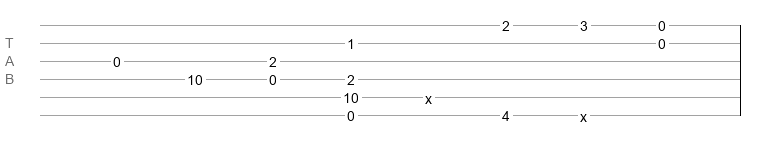0: (113, 54, 121, 64), (269, 72, 277, 82), (347, 108, 355, 118), (658, 36, 666, 46), (658, 18, 666, 28)
1: (347, 36, 355, 46)
10: (187, 72, 203, 82), (343, 90, 359, 100)
2: (269, 54, 277, 64), (347, 72, 355, 82), (502, 18, 510, 28)
3: (580, 18, 588, 28)
4: (502, 108, 510, 118)
x: (425, 91, 432, 99), (580, 109, 587, 117)
